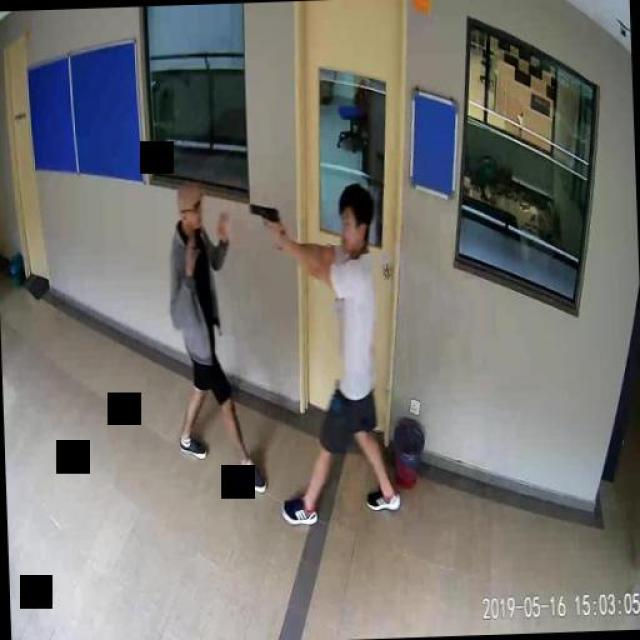gun: (248, 200, 278, 244)
